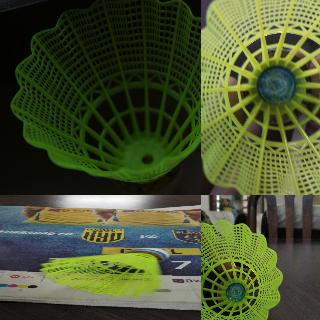shuttlecock: (10, 0, 200, 194), (201, 0, 319, 194), (201, 220, 283, 319), (40, 248, 170, 295)
